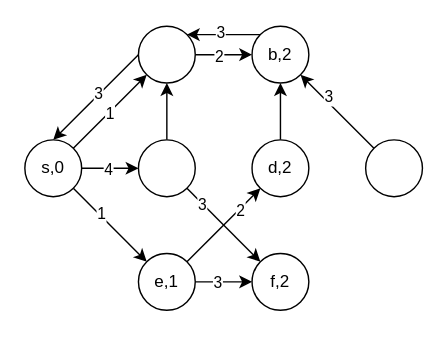
Image size: 447x337. Some labels were removed from this diagram. Here are the shapes that lost their labels. From the top down, the box of each, then its label:
(137, 25, 195, 83): a,1
(137, 138, 195, 197): c,1
(364, 138, 422, 197): t,3
